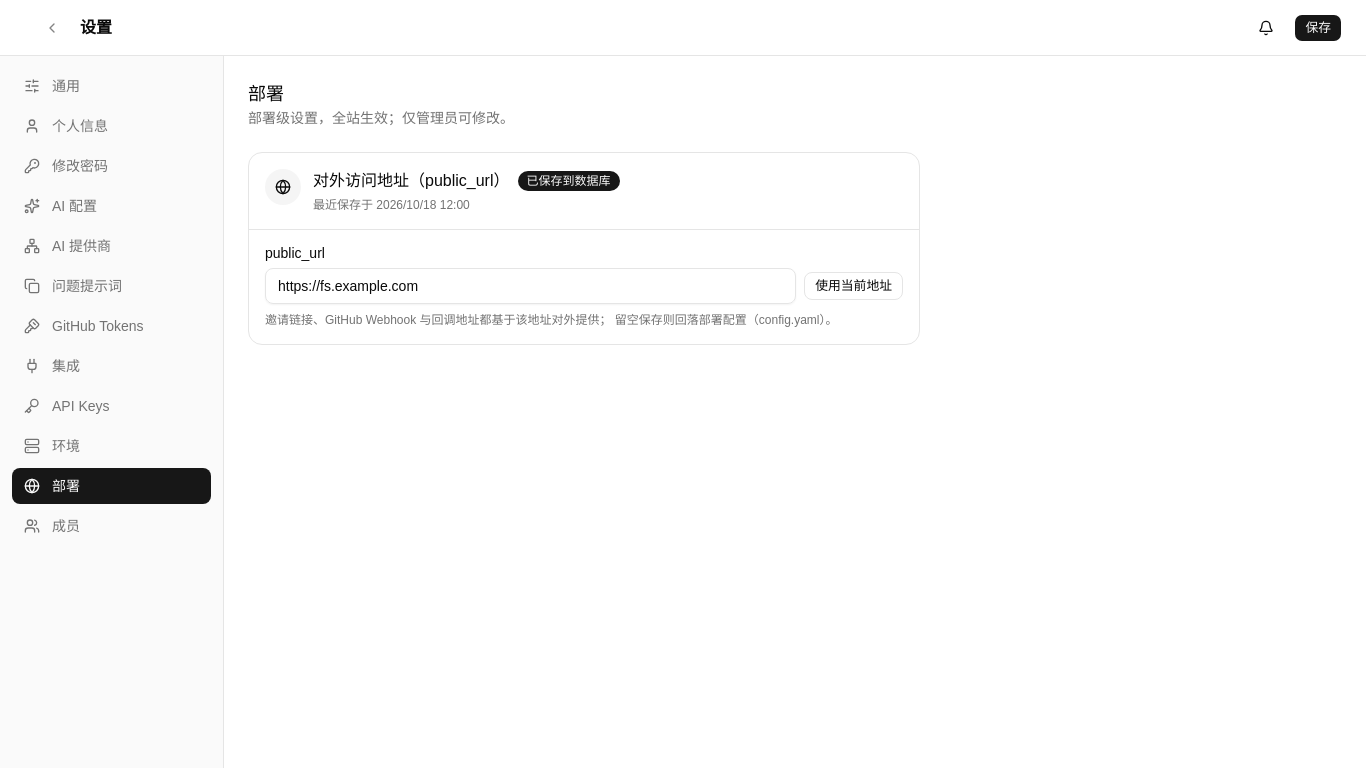
Test: DeploymentPage admin view › rejects non-http(s) urls before submitting
Replace the text in the field labelled "public_url" with "notaurl" at (531, 286), box [265,268,796,304]
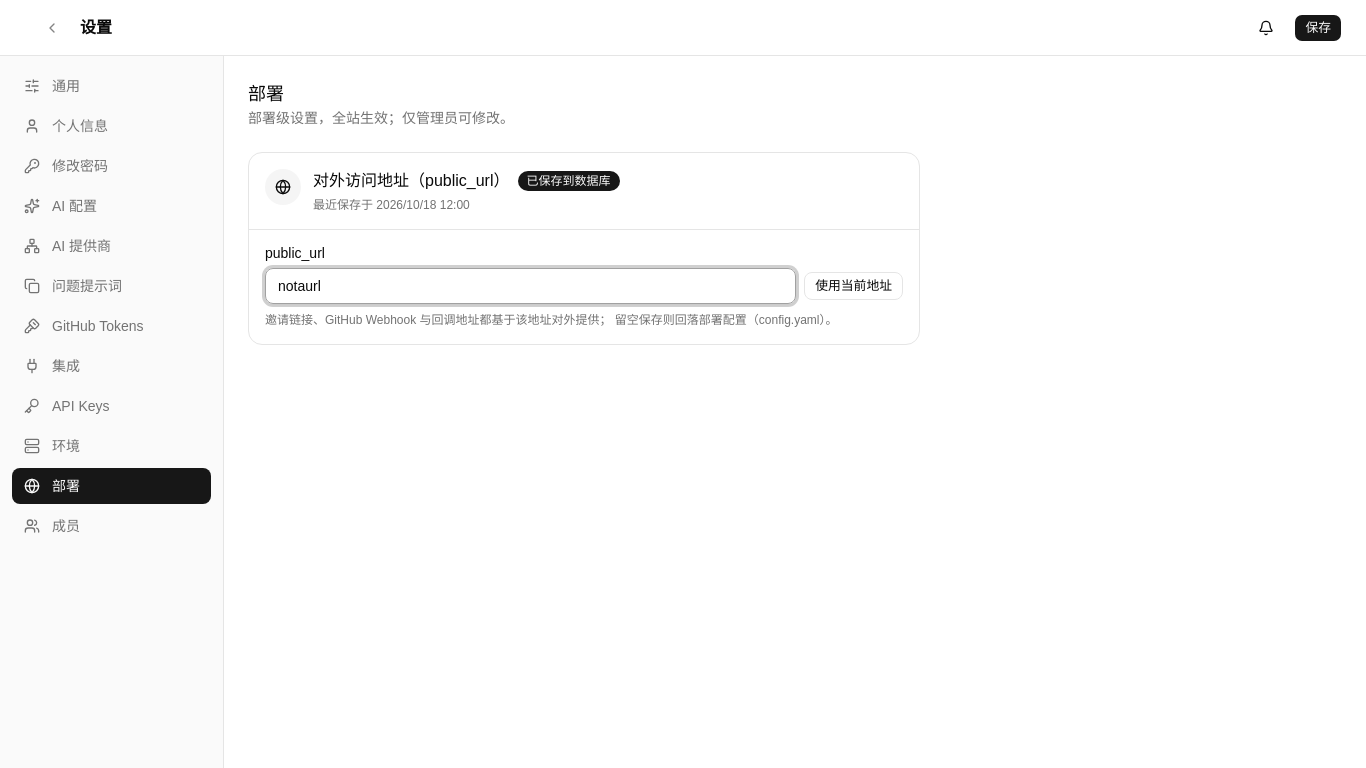
Click the button "保存" at (1318, 28), box [1294,14,1342,42]
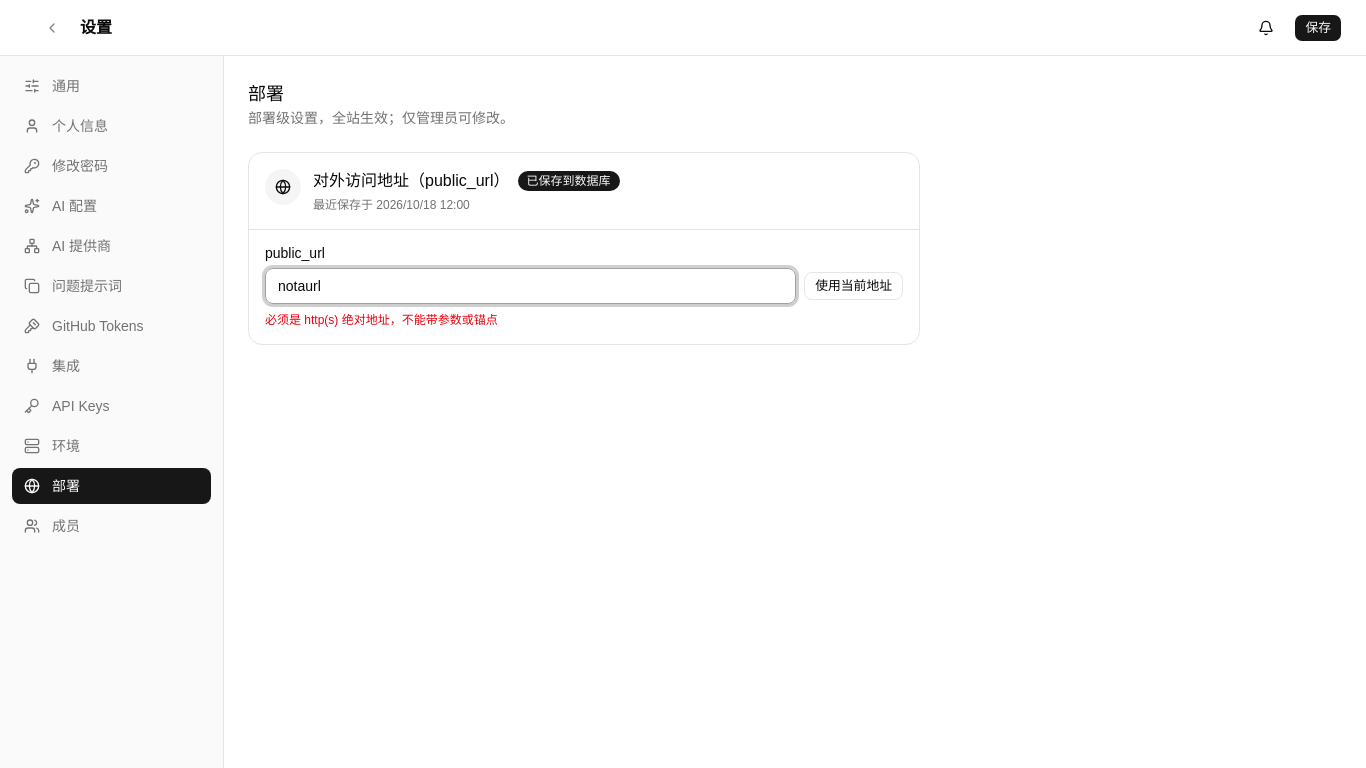
Expected: the text "必须是 http(s) 绝对地址，不能带参数或锚点" is shown, [265,313,498,327]
